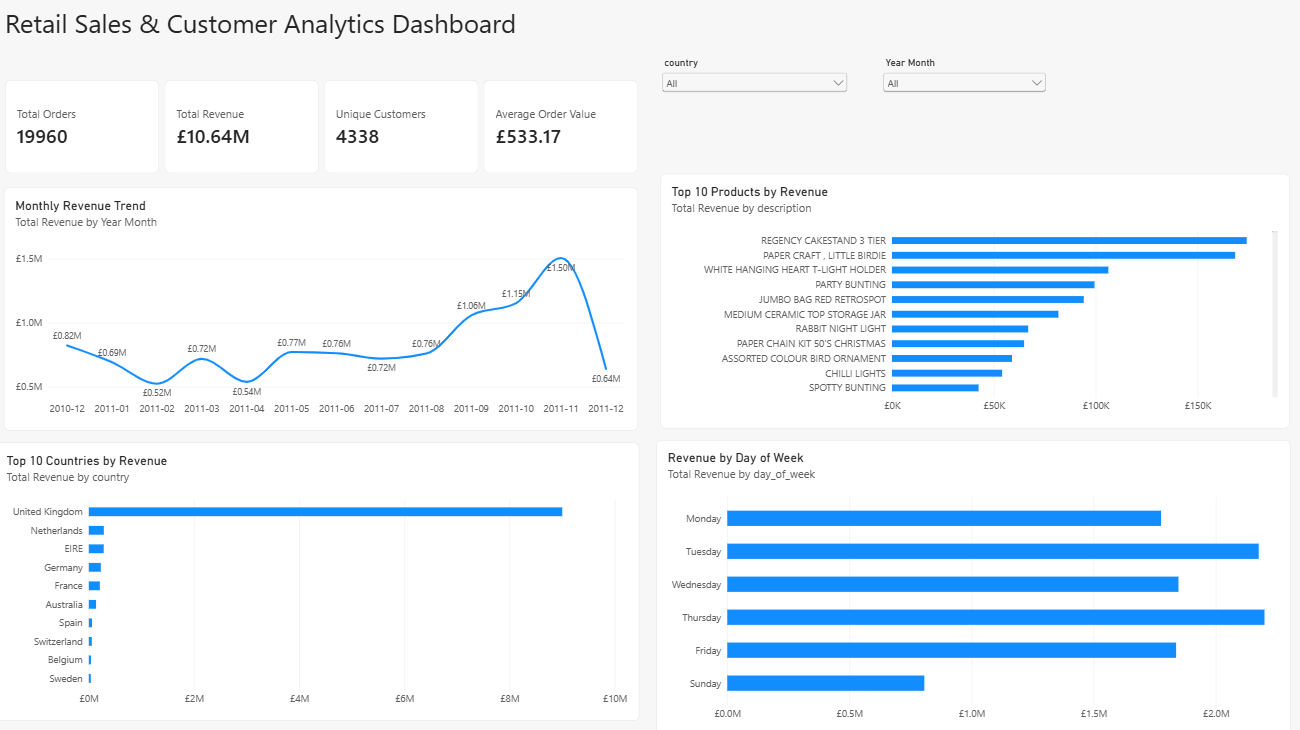

The dashboard page shown, as its layout file describes it:
{"tool":"powerbi","page":{"name":"Page 1","canvas":[1920,1080],"ordinal":0},"visuals":[{"type":"cardVisual","fields":{"Data":["online_retail_cleaned.Total Orders","online_retail_cleaned.Total Revenue","online_retail_cleaned.Unique Customers","online_retail_cleaned.Average Order Value"]},"box":[15,130.4,918,135.8],"z":0},{"type":"lineChart","title":"Monthly Revenue Trend","fields":{"Category":["online_retail_cleaned.Year Month"],"Y":["online_retail_cleaned.Total Revenue"]},"box":[12.8,286.5,918,352],"z":1000},{"type":"barChart","title":"Top 10 Products by Revenue","fields":{"Category":["online_retail_cleaned.description"],"Y":["online_retail_cleaned.Total Revenue"]},"box":[962.7,266,911.8,368.4],"z":2000},{"type":"clusteredBarChart","title":"Top 10 Countries by Revenue","fields":{"Category":["online_retail_cleaned.country"],"Y":["online_retail_cleaned.Total Revenue"]},"box":[0,654.3,932.4,403.4],"z":3000},{"type":"barChart","title":"Revenue by Day of Week","fields":{"Category":["online_retail_cleaned.day_of_week"],"Y":["online_retail_cleaned.Total Revenue"]},"box":[957.3,651.5,918,428.1],"z":4000},{"type":"slicer","fields":{"Values":["online_retail_cleaned.country"]},"box":[960.9,95.9,277.9,123.5],"z":5000},{"type":"slicer","fields":{"Values":["online_retail_cleaned.Year Month"]},"box":[1281.2,95.9,244.9,150.3],"z":6000},{"type":"textbox","box":[15,21.4,917.2,94.1],"z":6001}]}

Visuals, with their boxes in screenshot pixels (x1, y1, x2, y2), scaled from the page's 1920x1080 canvas onto the 1300x730 screenshot:
cardVisual - online_retail_cleaned.Total Orders x online_retail_cleaned.Total Revenue: BBox(10, 88, 632, 180)
"Monthly Revenue Trend" lineChart: BBox(9, 194, 630, 432)
"Top 10 Products by Revenue" barChart: BBox(652, 180, 1269, 429)
"Top 10 Countries by Revenue" clusteredBarChart: BBox(0, 442, 631, 715)
"Revenue by Day of Week" barChart: BBox(648, 440, 1270, 729)
slicer - online_retail_cleaned.country: BBox(651, 65, 839, 148)
slicer - online_retail_cleaned.Year Month: BBox(867, 65, 1033, 166)
textbox: BBox(10, 14, 631, 78)
